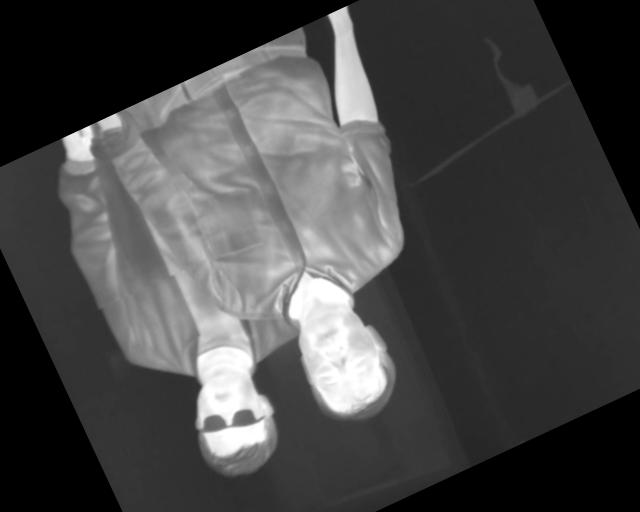face: (282, 290, 411, 435), (172, 356, 296, 490)
